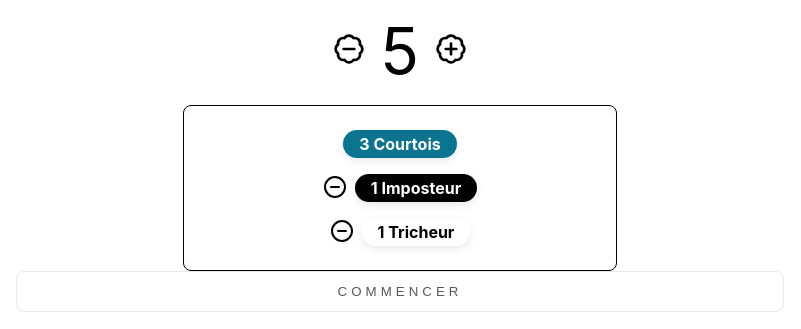
Scenario: CreateGamePage › Given I arrive on this page     When I click on add count button     Then the counter is egal at 6
The width and height of the screenshot is (801, 329).
Step 1. Click the button named "add-button" → (451, 50), box [435,33,467,68]
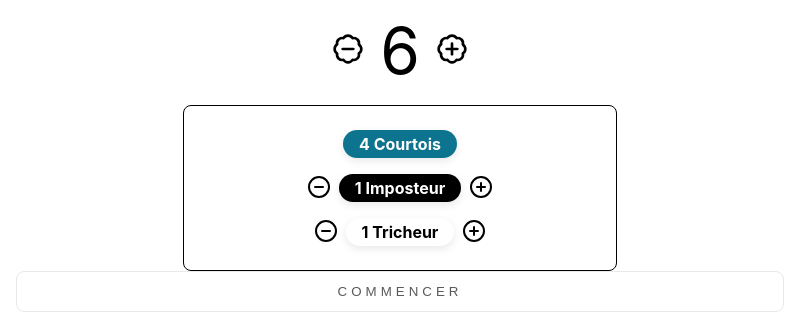
Check: the text named "count-player" reads "6", box [380,12,420,89]
